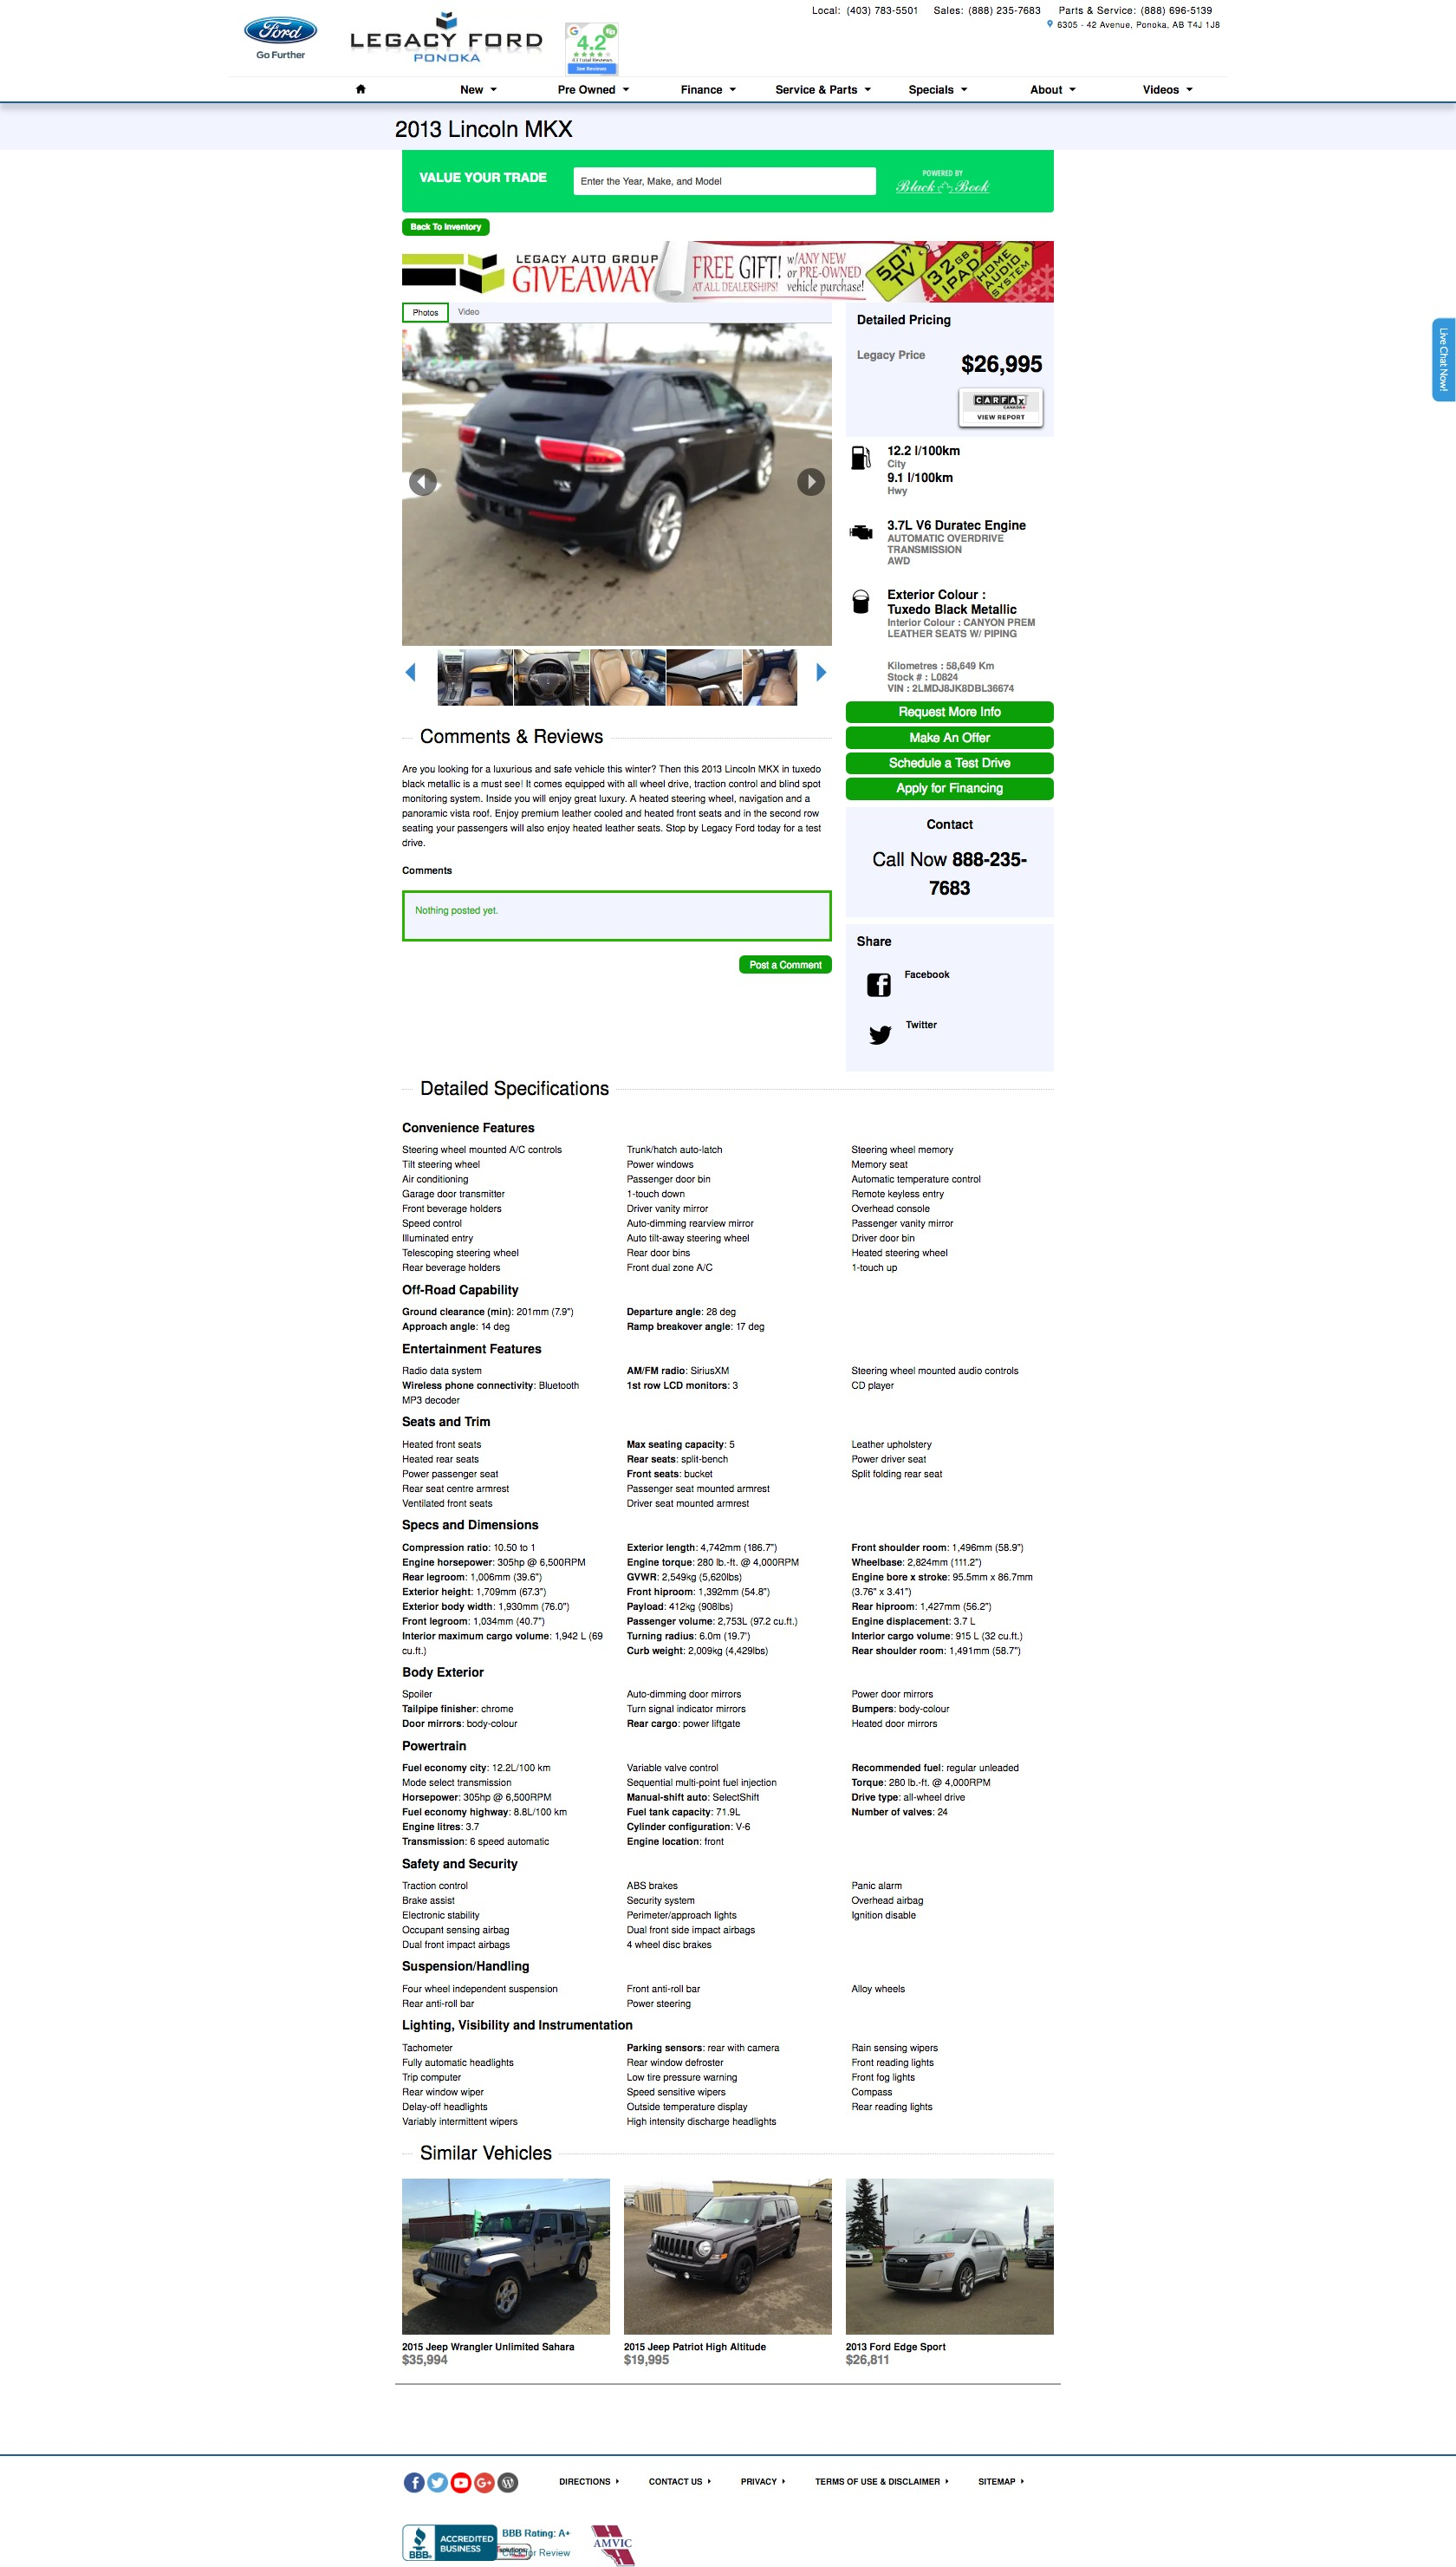car: (814, 661, 828, 682)
